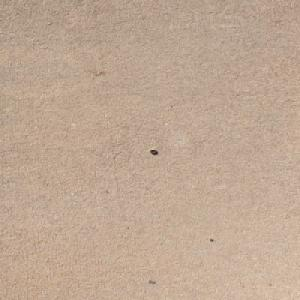Nut: (149, 149, 157, 153)
